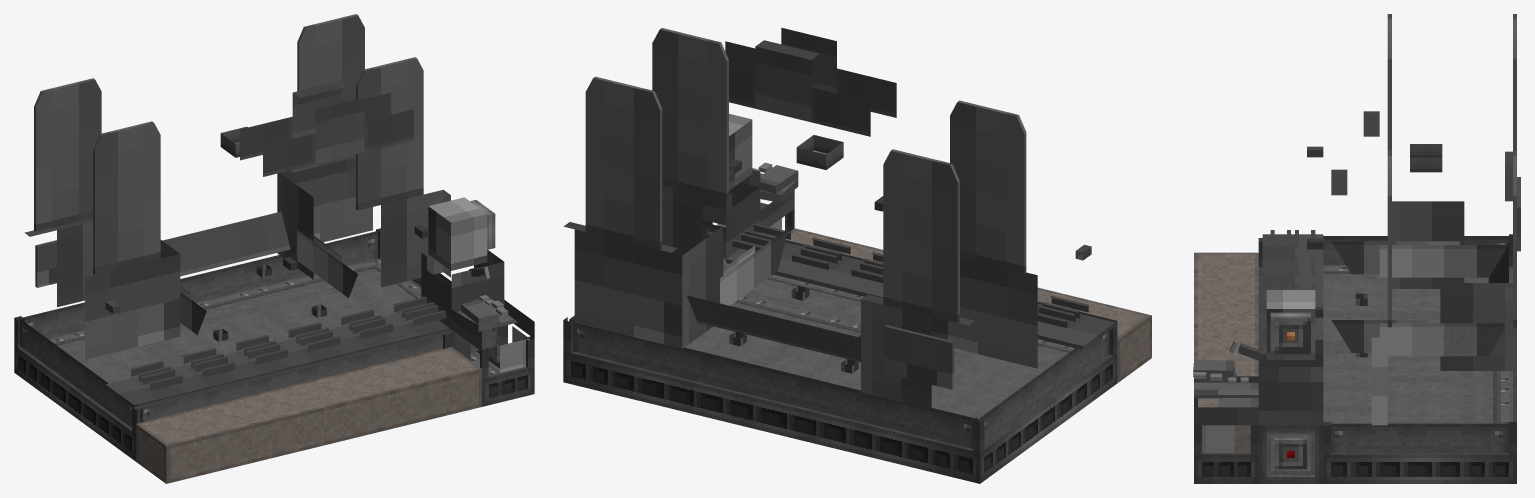
File: coagulator_flipped.obj
3 views of the same model, side by side, from view 1: azimuth 30°, elevation 25°; view 2: azimuth 150°, elevation 25°; view 3: azimuth 270°, elevation 25° (orthographic). The views are drawn at different scales.
Parts seen in each view (by area): view 1: flipped; view 2: flipped; view 3: flipped.
Part boxes in pixels (x1,y1,x2,y2): flipped: [14, 14, 534, 483]; flipped: [563, 27, 1151, 483]; flipped: [1193, 14, 1520, 483].
Size of the model in its own units: 7 by 5 by 5.22.
